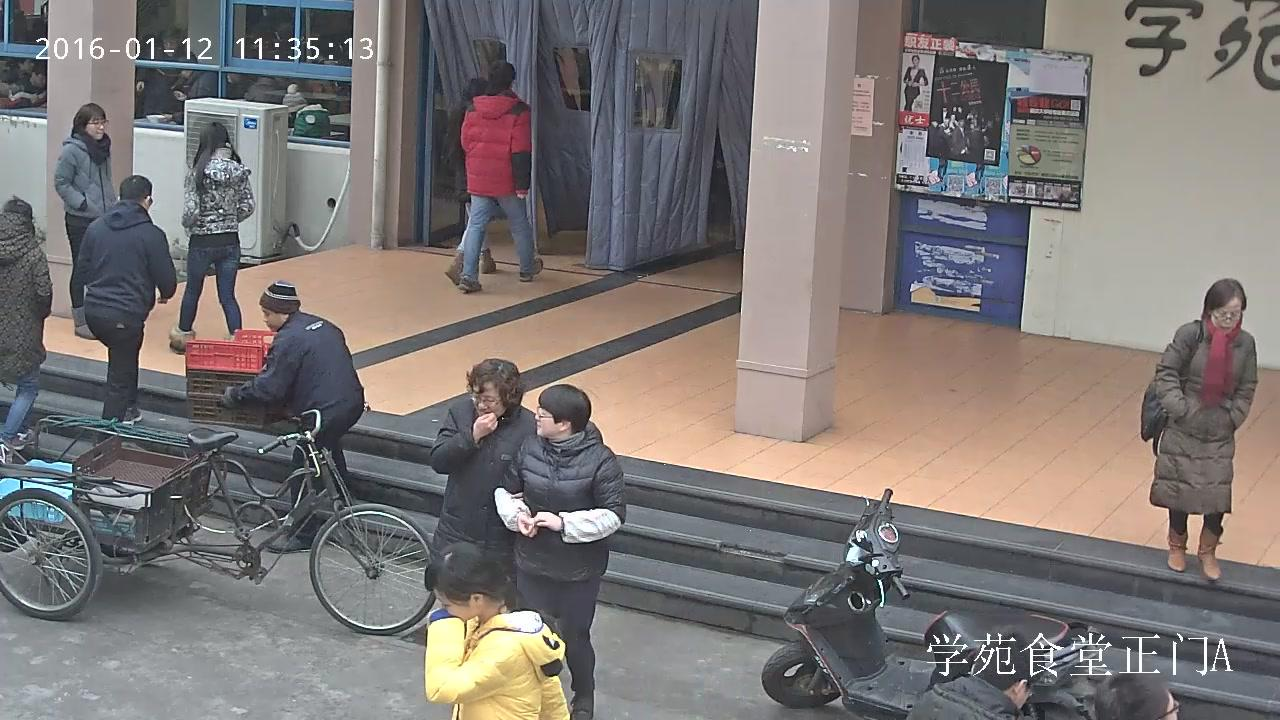person: (184, 281, 364, 555), (493, 385, 626, 720), (222, 281, 365, 555), (1141, 278, 1258, 579), (69, 174, 177, 447), (425, 542, 576, 720), (429, 357, 537, 593), (169, 122, 256, 354), (457, 60, 544, 290), (53, 103, 119, 340), (0, 195, 52, 451), (443, 76, 498, 286), (136, 34, 180, 119), (171, 49, 219, 124), (282, 82, 331, 140), (0, 55, 48, 111), (903, 54, 928, 111)
